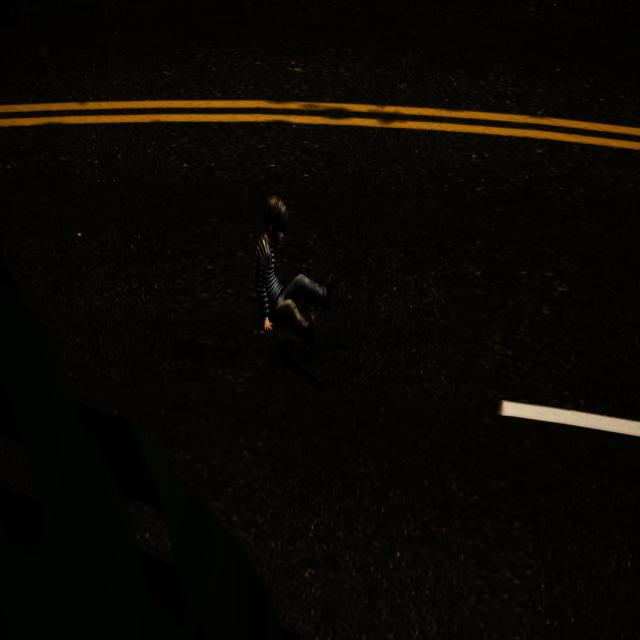Human: (252, 194, 342, 347)
